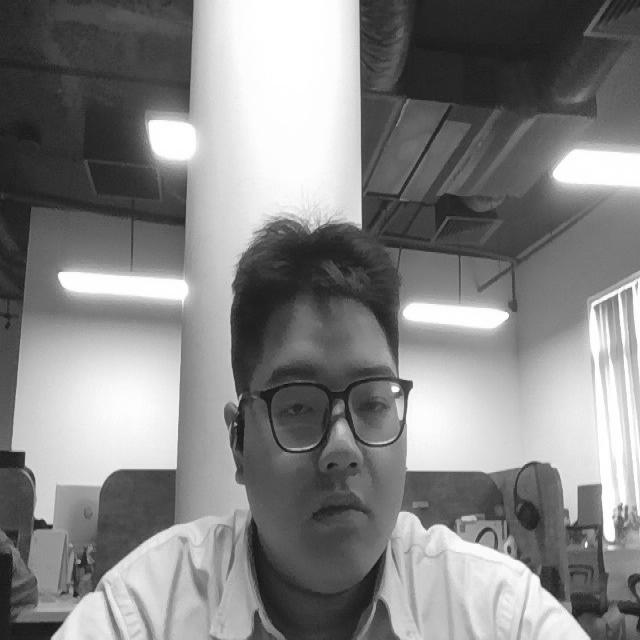real: (221, 204, 417, 600), (269, 372, 406, 443)
